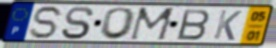B: (175, 8, 212, 42)
K: (212, 9, 244, 42)
M: (127, 6, 178, 42)
O: (97, 7, 139, 41)
S: (59, 5, 96, 41), (28, 5, 66, 40)
